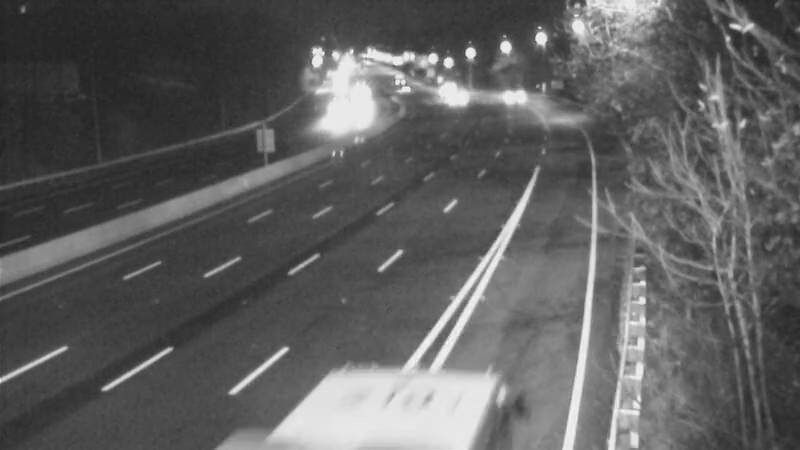vehicle: (373, 54, 423, 104), (423, 56, 473, 106), (419, 65, 469, 115), (479, 69, 529, 119), (428, 74, 478, 124), (310, 92, 360, 142)
